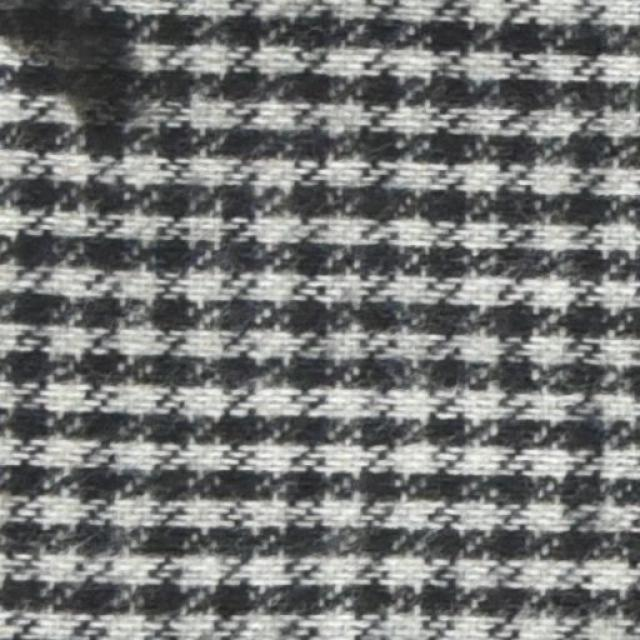Stain: (0, 1, 138, 171)
